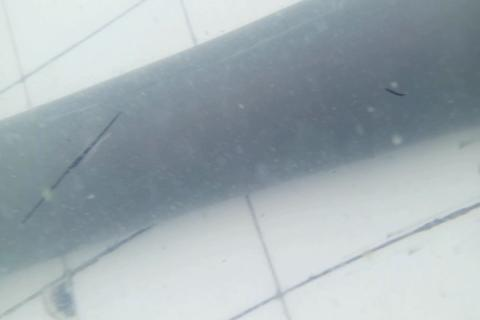keretakan: (18, 108, 121, 226)
